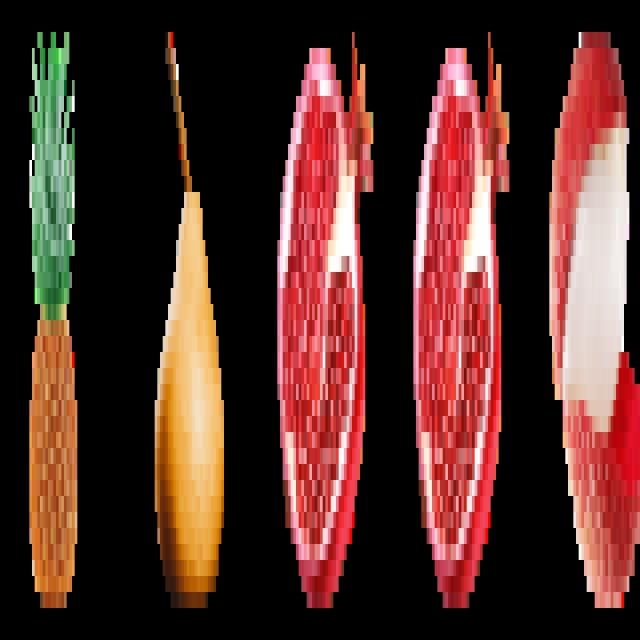lychee: (541, 0, 640, 624)
pear: (151, 9, 232, 623)
pineapples: (20, 10, 90, 628)
pomegranate: (271, 13, 379, 619), (410, 12, 512, 620)
